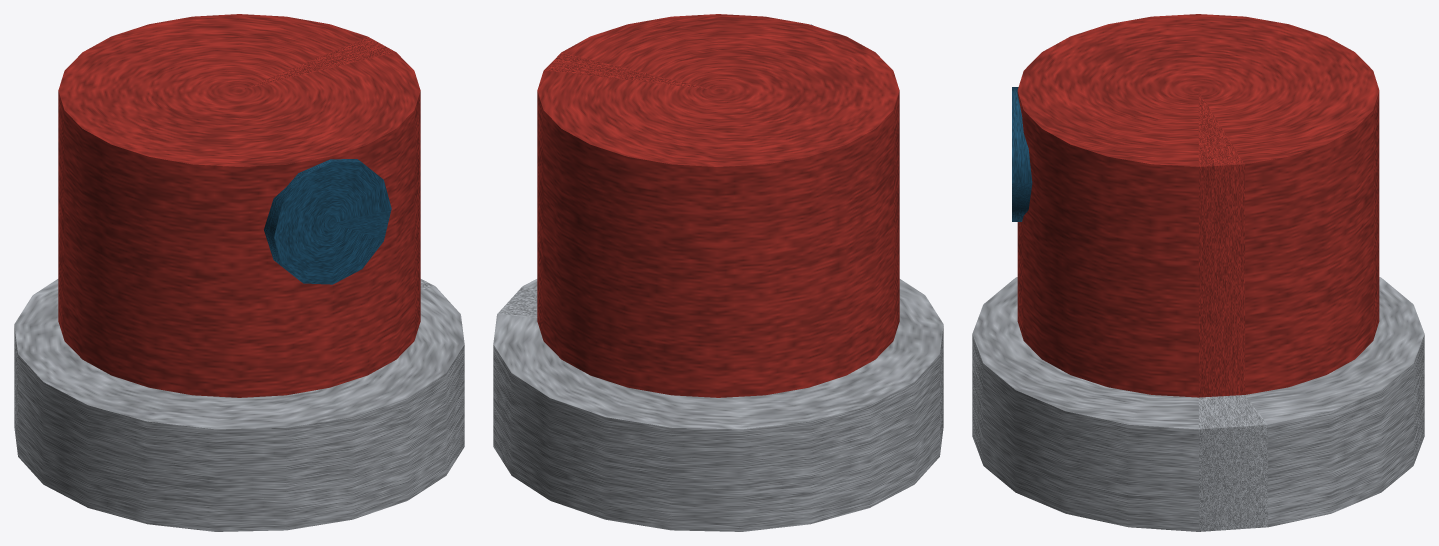
Rendered from lidar.obj.
3 renders of one model, left to right at view 1: azimuth 30°, elevation 25°; view 2: azimuth 150°, elevation 25°; view 3: azimuth 270°, elevation 25°, orthographic.
Bounding box in the file's own units: 0.08 × 0.0675 × 0.08.
Materials: 3 (3 with a texture image).
